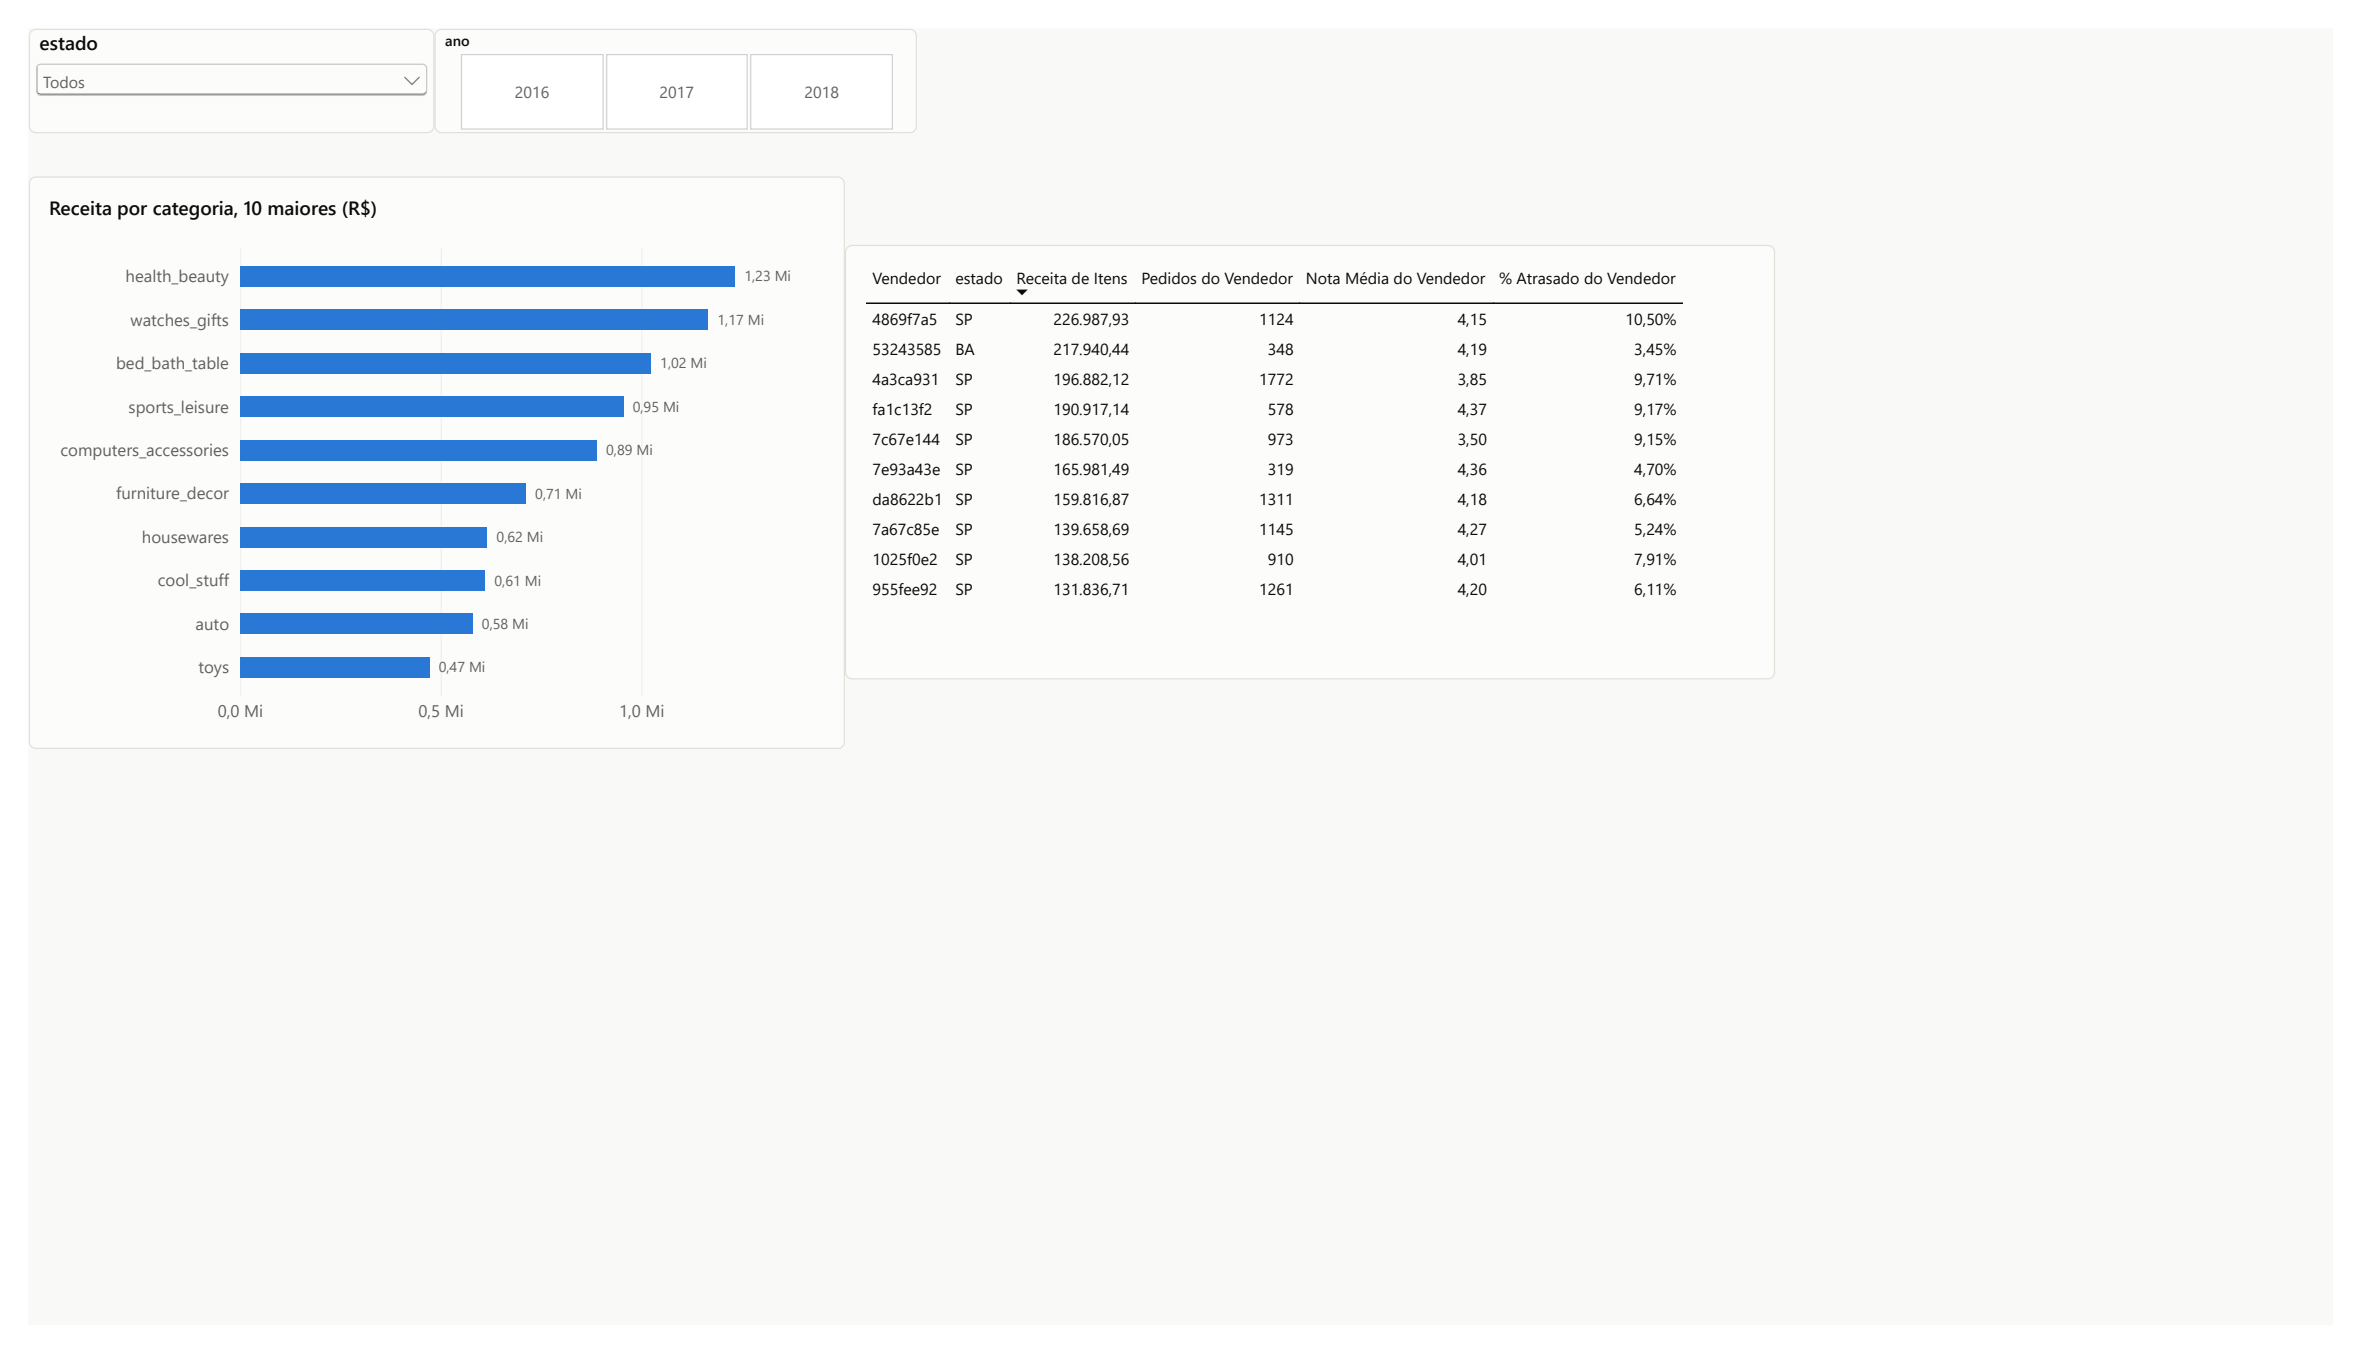

The page's visual inventory and layout, read from the dashboard file:
{"tool":"powerbi","page":{"name":"Produtos e vendedores","canvas":[1920,1080],"ordinal":2},"visuals":[{"type":"slicer","fields":{"Values":["dim_data.ano"]},"box":[338.3,0,401.7,86.7],"z":0},{"type":"slicer","fields":{"Values":["dim_cliente.estado"]},"box":[0,0,338.3,86.7],"z":1000},{"type":"barChart","title":"Receita por categoria, 10 maiores (R$)","fields":{"Category":["dim_produto.categoria"],"Y":["Medidas.Receita de Itens"]},"box":[0,123.3,680,476.7],"z":2000},{"type":"tableEx","fields":{"Values":["dim_vendedor.Vendedor","dim_vendedor.estado","Medidas.Receita de Itens","Medidas.Pedidos do Vendedor","Medidas.Nota Média do Vendedor","Medidas.% Atrasado do Vendedor"]},"box":[680,180,775,361.7],"z":3000}]}

Visuals, with their boxes in screenshot pixels (x1, y1, x2, y2), scaled from the page's 1920x1080 canvas onto the 2362x1354 screenshot:
slicer - dim_data.ano: bbox=[416, 0, 910, 109]
slicer - dim_cliente.estado: bbox=[0, 0, 416, 109]
"Receita por categoria, 10 maiores (R$)" barChart: bbox=[0, 155, 837, 752]
tableEx - dim_vendedor.Vendedor x dim_vendedor.estado: bbox=[837, 226, 1790, 679]
